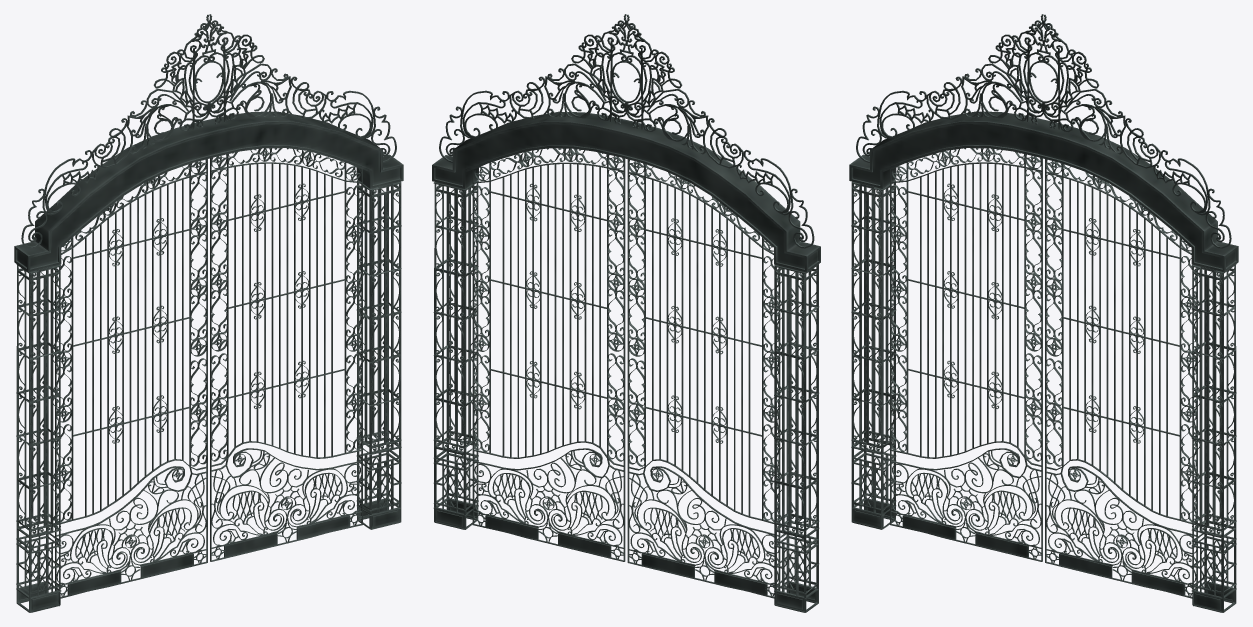
The model's file is Gate.fbx.
3 renders of one model, left to right at view 1: azimuth 30°, elevation 25°; view 2: azimuth 150°, elevation 25°; view 3: azimuth 330°, elevation 25°, orthographic.
Parts seen in each view (by area): view 1: Main_Gate_1; view 2: Main_Gate_1; view 3: Main_Gate_1.
Boxes of the visible parts, bbox=[...] form: Main_Gate_1: bbox=[14, 14, 403, 612]; Main_Gate_1: bbox=[432, 14, 820, 612]; Main_Gate_1: bbox=[849, 14, 1238, 612].
Size of the model in its own units: 38.28 by 597 by 835.
1 material, 1 textured.
